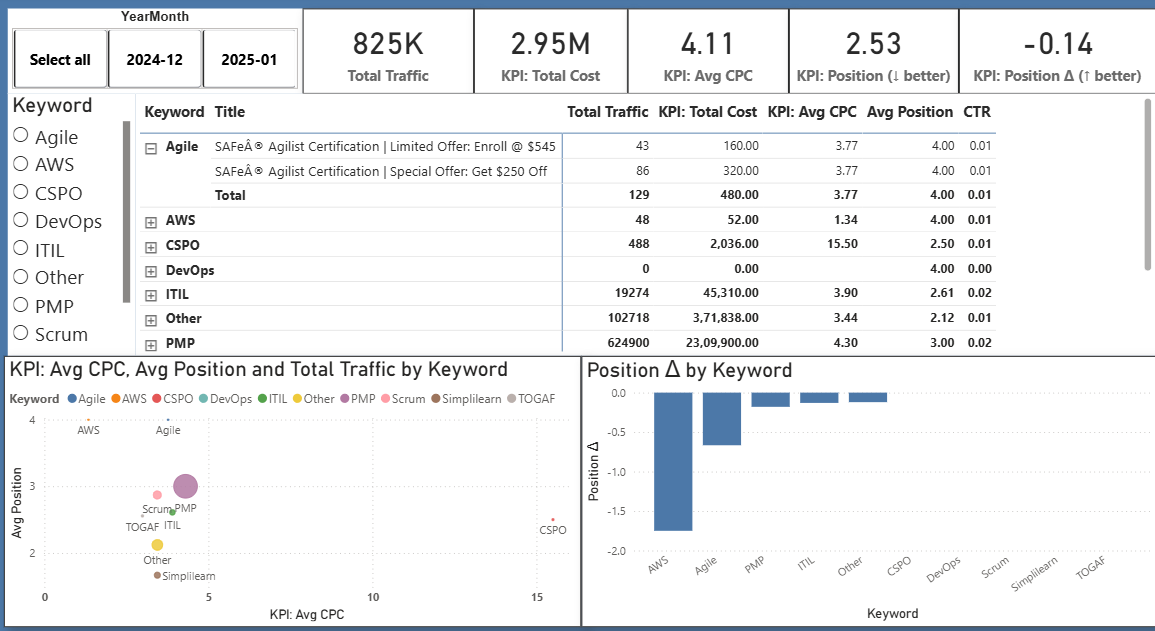

This screenshot's page, from the dashboard's own definition file:
{"tool":"powerbi","page":{"name":"Keyword & Position Analysis","canvas":[1280,720],"ordinal":1},"visuals":[{"type":"advancedSlicerVisual","fields":{"Values":["Date.YearMonth"]},"box":[9.6,13.7,323.8,93.3],"z":0},{"type":"listSlicer","fields":{"Values":["internshipproject_trafficdata keyword_dimtable.Keyword"]},"box":[9.6,107,140,288.2],"z":1000},{"type":"card","fields":{"Values":["Aggregations.Total Traffic"]},"box":[333.4,13.7,188,93.3],"z":2000},{"type":"card","fields":{"Values":["Aggregations.KPI: Total Cost"]},"box":[521.4,13.7,168.8,93.3],"z":3000},{"type":"card","fields":{"Values":["Aggregations.KPI: Avg CPC"]},"box":[690.2,13.7,177,93.3],"z":4000},{"type":"card","fields":{"Values":["Aggregations.KPI: Position (↓ better)"]},"box":[867.2,13.7,186.6,93.3],"z":5000},{"type":"card","fields":{"Values":["Aggregations.KPI: Position Δ (↑ better)"]},"box":[1053.9,13.7,216.8,93.3],"z":6000},{"type":"pivotTable","fields":{"Rows":["internshipproject_trafficdata keyword_dimtable.Keyword","internshipproject_trafficdata adword_maintable.Title"],"Values":["Aggregations.Total Traffic","Aggregations.KPI: Total Cost","Aggregations.KPI: Avg CPC","Aggregations.Avg Position","Aggregations.CTR"]},"box":[149.6,107,1121.1,288.2],"z":7000},{"type":"scatterChart","fields":{"X":["Aggregations.KPI: Avg CPC"],"Y":["Aggregations.Avg Position"],"Size":["Aggregations.Total Traffic"],"Series":["internshipproject_trafficdata keyword_dimtable.Keyword"]},"box":[5.5,395.2,634,297.8],"z":8000},{"type":"clusteredColumnChart","fields":{"Category":["internshipproject_trafficdata keyword_dimtable.Keyword"],"Y":["Aggregations.Position Δ"]},"box":[639.5,395.2,631.2,297.8],"z":9000}]}

Visuals, with their boxes in screenshot pixels (x1, y1, x2, y2), scaled from the page's 1280x720 canvas onto the 1155x631 screenshot:
advancedSlicerVisual - Date.YearMonth: bbox=[9, 12, 301, 94]
listSlicer - internshipproject_trafficdata keyword_dimtable.Keyword: bbox=[9, 94, 135, 346]
card - Aggregations.Total Traffic: bbox=[301, 12, 470, 94]
card - Aggregations.KPI: Total Cost: bbox=[470, 12, 623, 94]
card - Aggregations.KPI: Avg CPC: bbox=[623, 12, 783, 94]
card - Aggregations.KPI: Position (↓ better): bbox=[783, 12, 951, 94]
card - Aggregations.KPI: Position Δ (↑ better): bbox=[951, 12, 1147, 94]
pivotTable - internshipproject_trafficdata keyword_dimtable.Keyword x internshipproject_trafficdata adword_maintable.Title: bbox=[135, 94, 1147, 346]
scatterChart - Aggregations.KPI: Avg CPC x Aggregations.Avg Position: bbox=[5, 346, 577, 607]
clusteredColumnChart - internshipproject_trafficdata keyword_dimtable.Keyword x Aggregations.Position Δ: bbox=[577, 346, 1147, 607]
